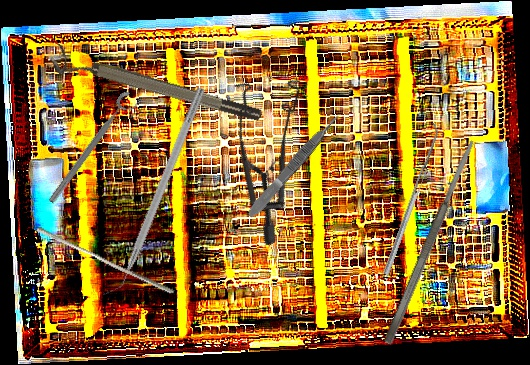Chopper: (100, 82, 206, 302)
Fixation Ring: (48, 43, 264, 134), (45, 88, 142, 211)
Pusher: (33, 225, 178, 296)
Spatula Surgical: (381, 138, 479, 346), (377, 122, 443, 276)
Speculum: (192, 56, 362, 248)
Tissue Forceps: (243, 111, 345, 221)
